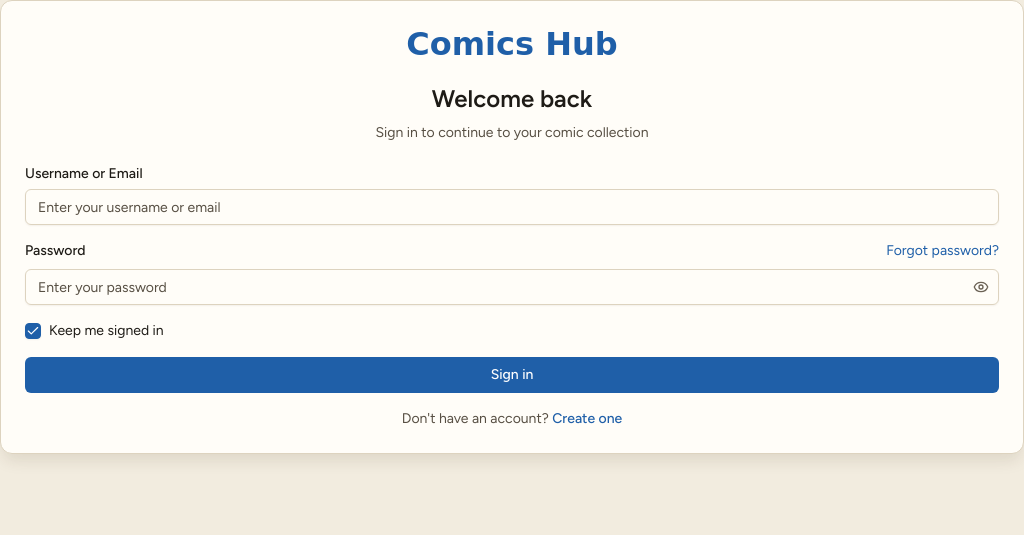
Test: LoginPage › keeps submit enabled and explains empty fields on submit
Click the button "Sign in": click(512, 375) [25, 357, 999, 393]
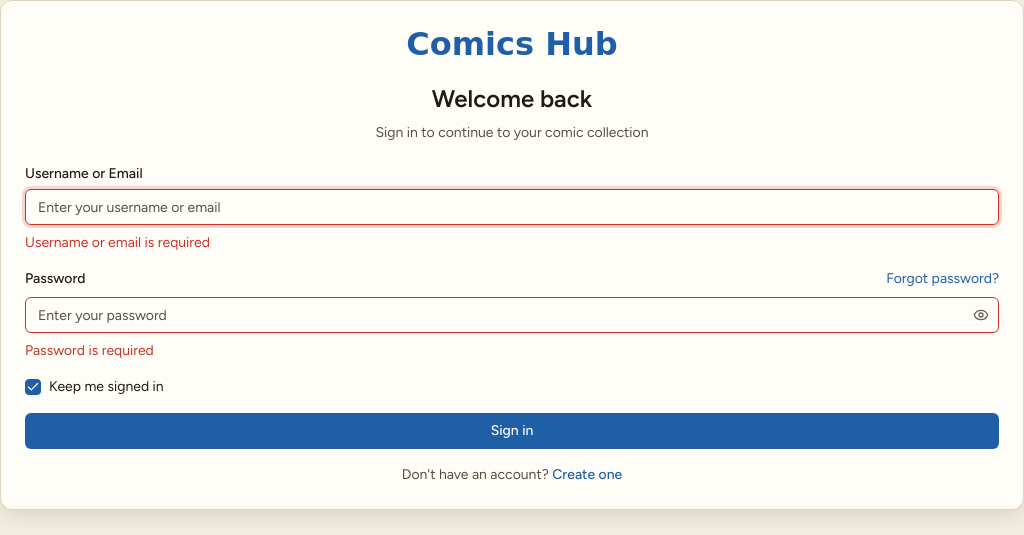
Check: the text "Username or email is required" is shown, box [25, 234, 210, 251]
Check: the text "Password is required" is shown, box [25, 342, 154, 359]
